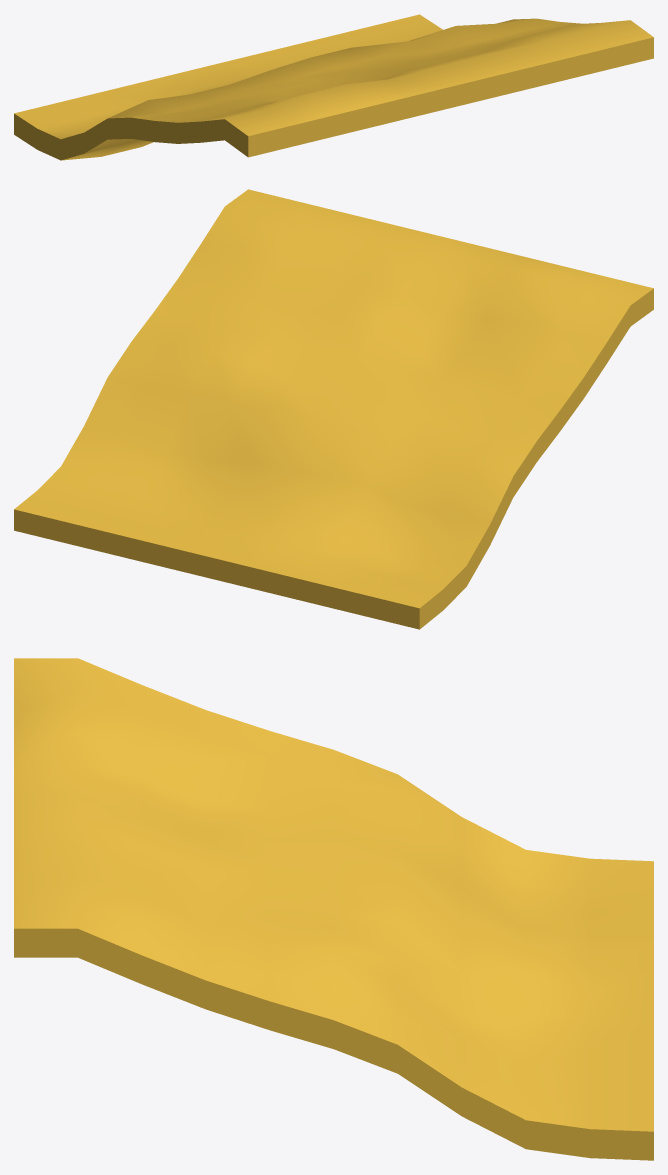
File: Flach - Mitte - Hügel a - a.fbx
The picture shows the model from 3 angles, top to bottom: view 1: azimuth 30°, elevation 25°; view 2: azimuth 150°, elevation 25°; view 3: azimuth 270°, elevation 25°; orthographic projection. The views are drawn at different scales.
Parts seen in each view (by area): view 1: Flach - Mitte - Hügel a - a; view 2: Flach - Mitte - Hügel a - a; view 3: Flach - Mitte - Hügel a - a.
Boxes of the visible parts, x1,y1,x2,y2 form: Flach - Mitte - Hügel a - a: (14, 14, 653, 160); Flach - Mitte - Hügel a - a: (14, 189, 653, 629); Flach - Mitte - Hügel a - a: (14, 658, 653, 1160).
Bounding box in the file's own units: 394 × 162 × 394.
